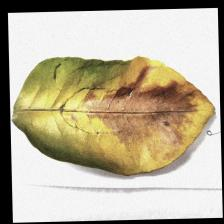canker: (48, 68, 205, 151)
